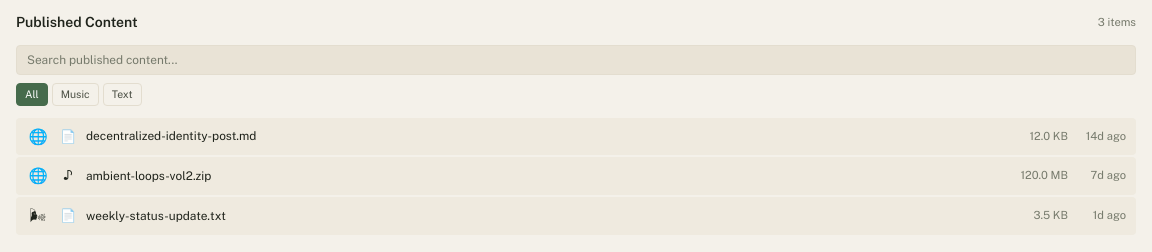
Scenario: PublishedView › shows all items when "All" filter is selected
// First filter to music
Click the button "Music".
click(75, 95)  # box [52,83,99,106]
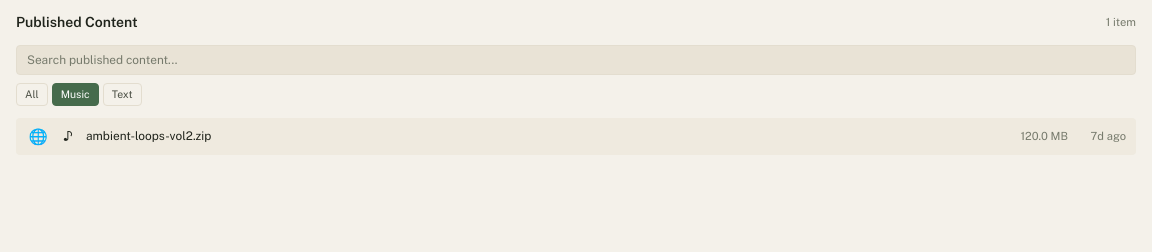
// Then click All
Click the button "All".
click(32, 95)  # box [16,83,48,106]
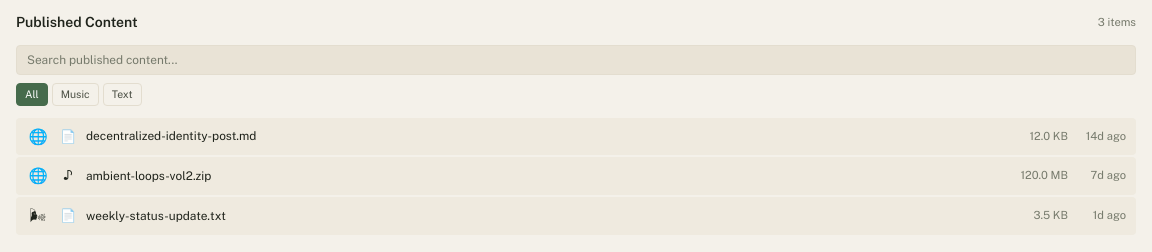
Expected: the text "ambient-loops-vol2.zip" is shown, [86,169,211,183]
Result: the text "decentralized-identity-post.md" is shown at [86,129,256,143]
Result: the text "weekly-status-update.txt" is shown at [86,208,226,222]
